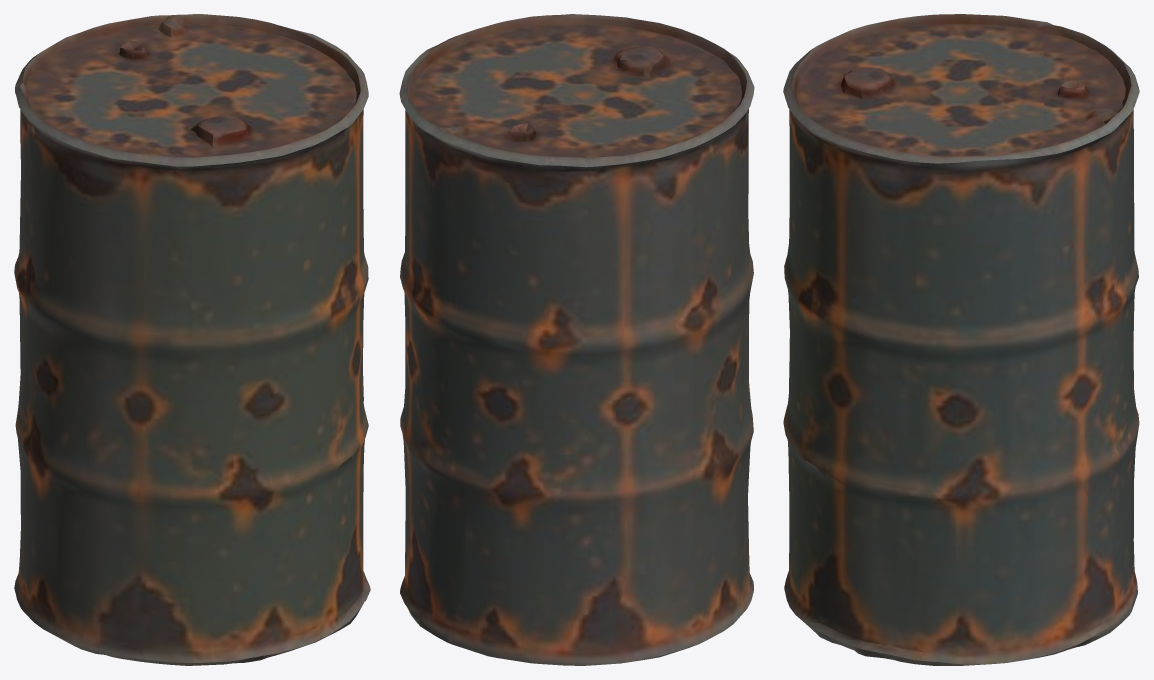
Rendered from street_rusty_barrel.glb.
3 renders of one model, left to right at view 1: azimuth 30°, elevation 25°; view 2: azimuth 150°, elevation 25°; view 3: azimuth 270°, elevation 25°, orthographic.
Visible parts, largest first — view 1: turn; view 2: turn; view 3: turn.
Part boxes in pixels (box(x1,y1,x2,y2)): turn: box(14, 14, 370, 665); turn: box(399, 14, 754, 665); turn: box(783, 14, 1139, 665).
Size of the model in its own units: 0.5675 by 0.9 by 0.5688.
1 material, 1 textured.
